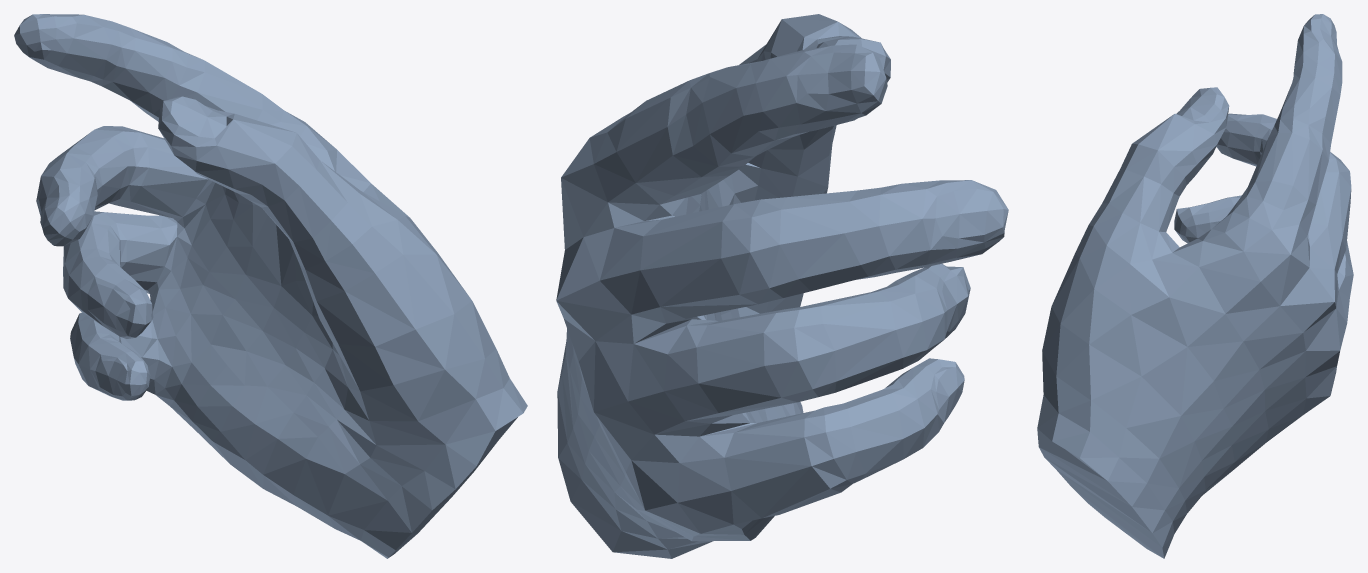
The picture shows the model from 3 angles, left to right: view 1: azimuth 30°, elevation 25°; view 2: azimuth 150°, elevation 25°; view 3: azimuth 270°, elevation 25°; orthographic projection. The views are drawn at different scales.
Size of the model in its own units: 0.1235 by 0.1527 by 0.1013.
